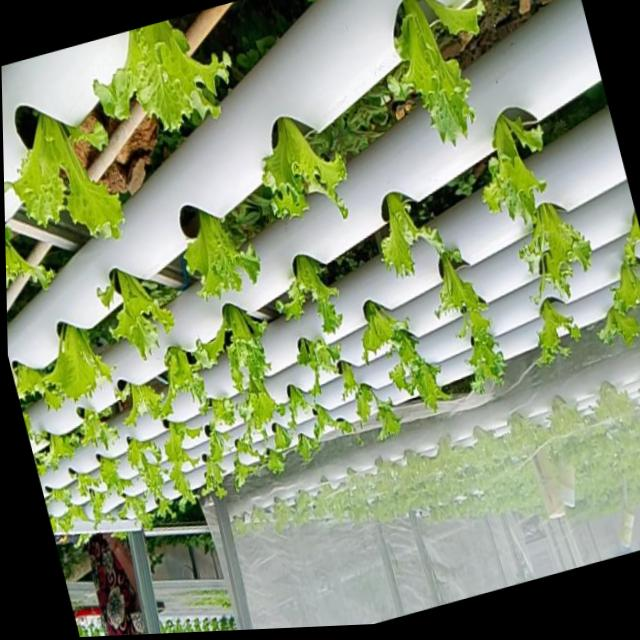Baby: (91, 22, 228, 132), (4, 118, 122, 242), (386, 0, 471, 145), (432, 243, 502, 391), (260, 116, 344, 218), (177, 205, 257, 297), (478, 112, 541, 222), (516, 202, 587, 296), (101, 269, 172, 360), (44, 326, 113, 407), (377, 191, 441, 276), (274, 254, 340, 333), (387, 329, 447, 410), (150, 340, 207, 419), (125, 439, 168, 516), (234, 374, 283, 435), (289, 336, 338, 395), (359, 299, 405, 361), (534, 297, 576, 363), (608, 240, 640, 315), (98, 458, 128, 497), (116, 496, 150, 530), (233, 432, 257, 465), (208, 398, 233, 427), (87, 491, 103, 528)
